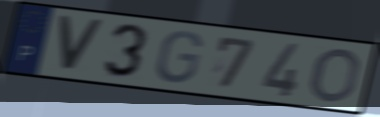3: (101, 22, 152, 81)
4: (258, 40, 300, 99)
7: (216, 35, 255, 90)
G: (153, 29, 205, 86)
O: (307, 46, 364, 105)
V: (55, 13, 107, 75)
